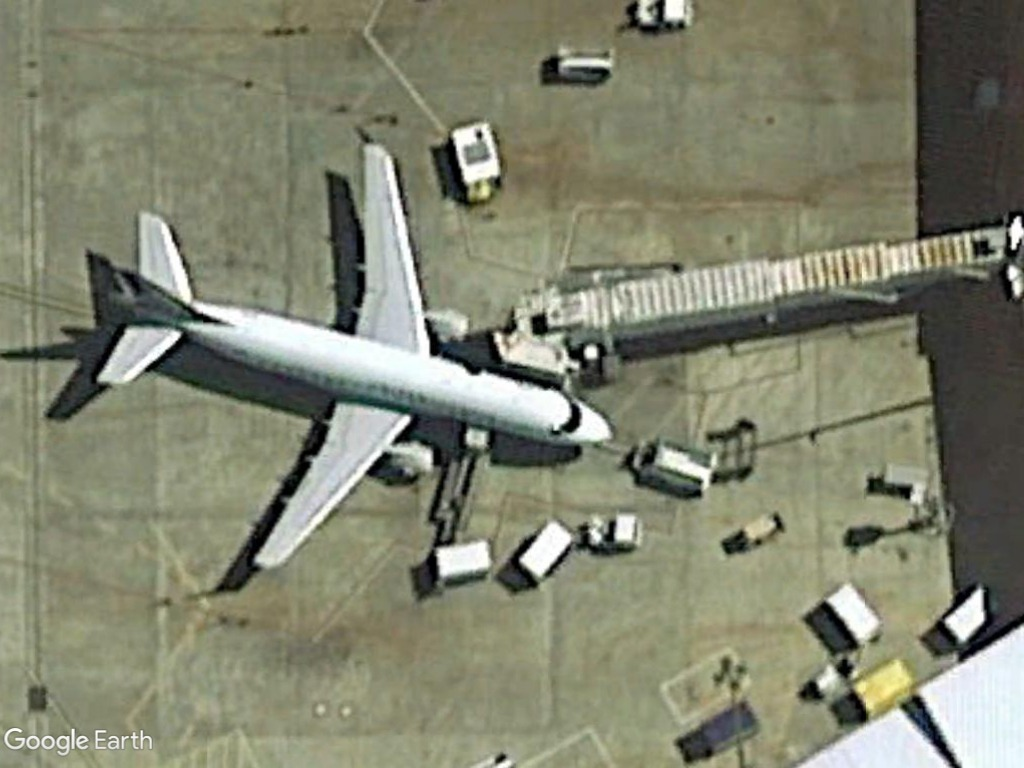airliner: (87, 142, 619, 581)
